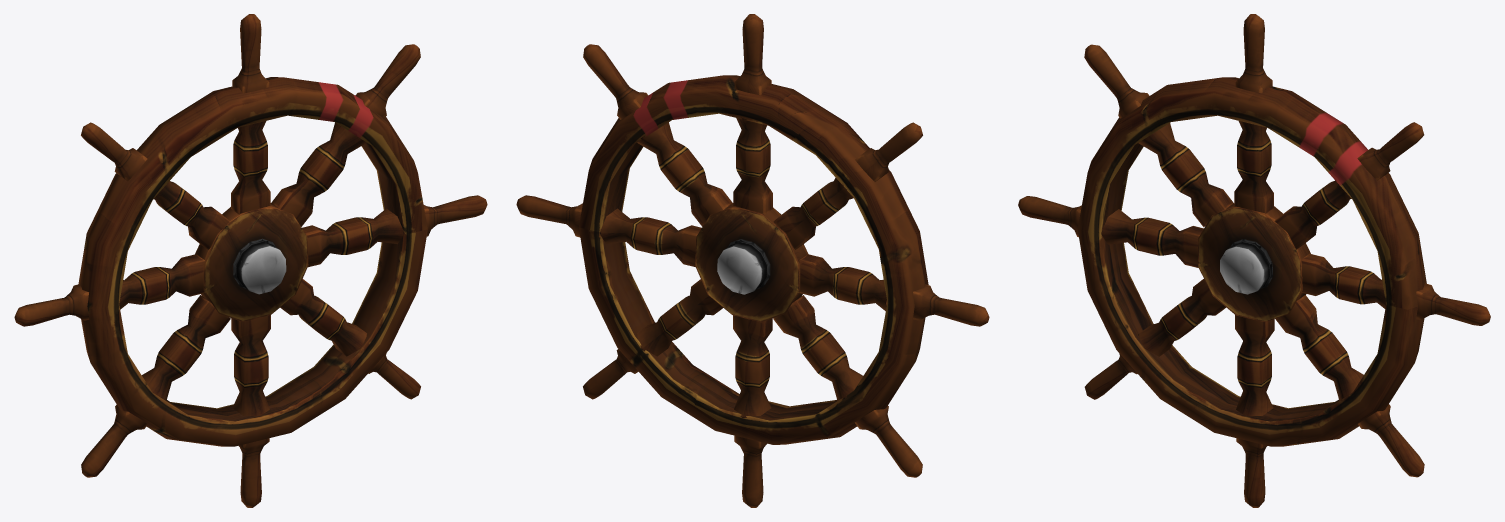
The model's file is Steuerrad.FBX.
3 views of the same model, side by side, from view 1: azimuth 30°, elevation 25°; view 2: azimuth 150°, elevation 25°; view 3: azimuth 330°, elevation 25° (orthographic).
Visible parts, largest first — view 1: Object007; view 2: Object007; view 3: Object007.
Part boxes in pixels (x1,y1,x2,y2): Object007: (14,14,487,507); Object007: (516,14,989,507); Object007: (1018,14,1490,507).
Bounding box in the file's own units: 60.49 × 6.08 × 60.49.
